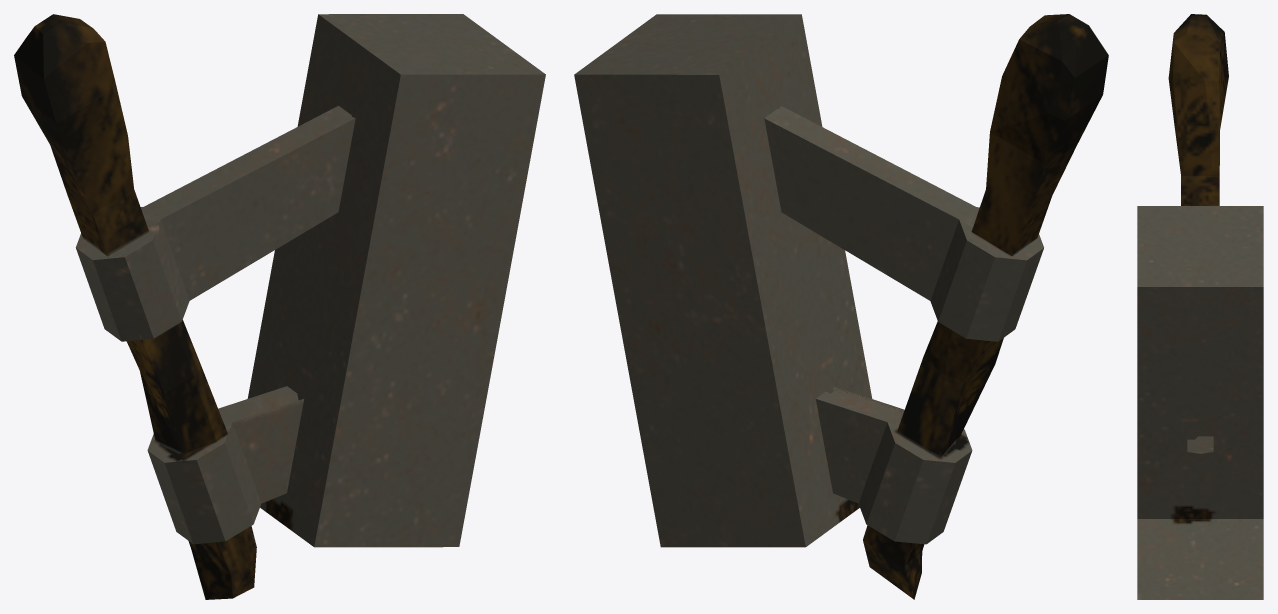
The model's file is torch.fbx.
3 views of the same model, side by side, from view 1: azimuth 30°, elevation 25°; view 2: azimuth 150°, elevation 25°; view 3: azimuth 270°, elevation 25° (orthographic). The views are drawn at different scales.
Parts seen in each view (by area): view 1: torch LP; view 2: torch LP; view 3: torch LP.
Boxes of the visible parts, <box> form: torch LP: <box>14,14,545,599</box>; torch LP: <box>574,14,1108,599</box>; torch LP: <box>1137,14,1263,599</box>.
Bounding box in the file's own units: 108 × 134 × 32.39.
